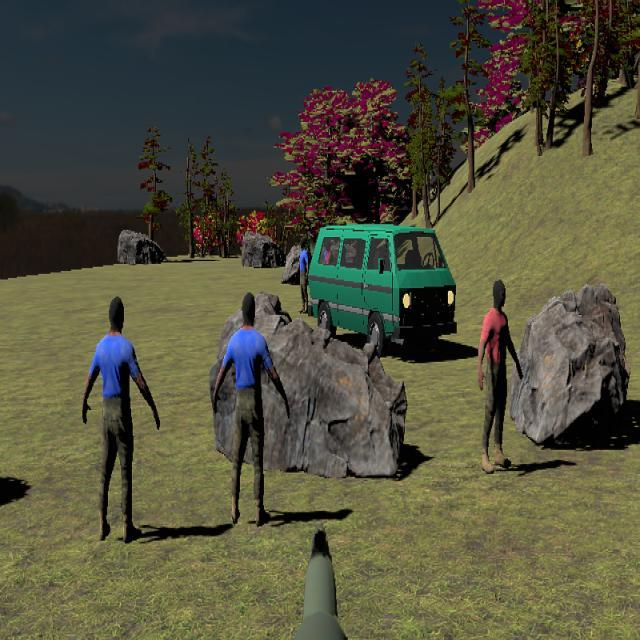Human: (81, 295, 160, 542), (213, 290, 289, 527), (479, 277, 523, 472)
car: (308, 223, 458, 353)
